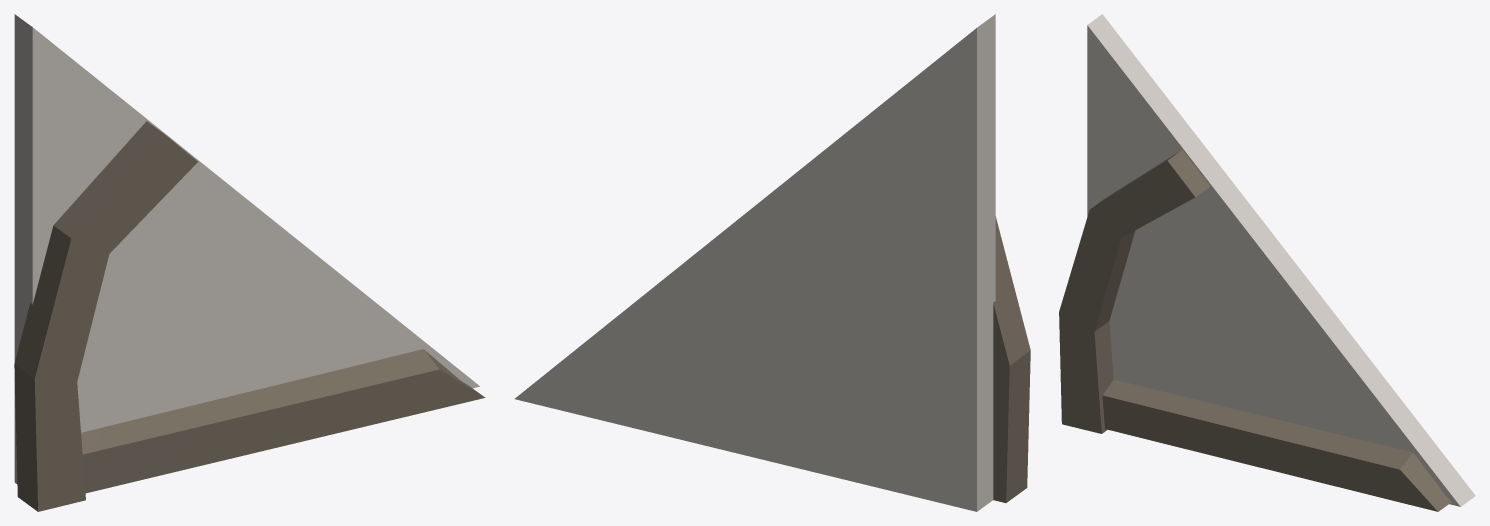
Rendered from _ROOF_TRIANGLE_RIGHT_WOOD_1.fbx.
3 renders of one model, left to right at view 1: azimuth 30°, elevation 25°; view 2: azimuth 150°, elevation 25°; view 3: azimuth 330°, elevation 25°, orthographic. The views are drawn at different scales.
Visible parts, largest first — view 1: ROOF_TRIANGLE_RIGHT_WOOD_1; view 2: ROOF_TRIANGLE_RIGHT_WOOD_1; view 3: ROOF_TRIANGLE_RIGHT_WOOD_1.
Boxes of the visible parts, box(x1,y1,x2,y2) form: ROOF_TRIANGLE_RIGHT_WOOD_1: box(14, 14, 485, 511); ROOF_TRIANGLE_RIGHT_WOOD_1: box(515, 14, 1030, 511); ROOF_TRIANGLE_RIGHT_WOOD_1: box(1059, 14, 1475, 511).
Bounding box in the file's own units: 104 × 100 × 13.95.
